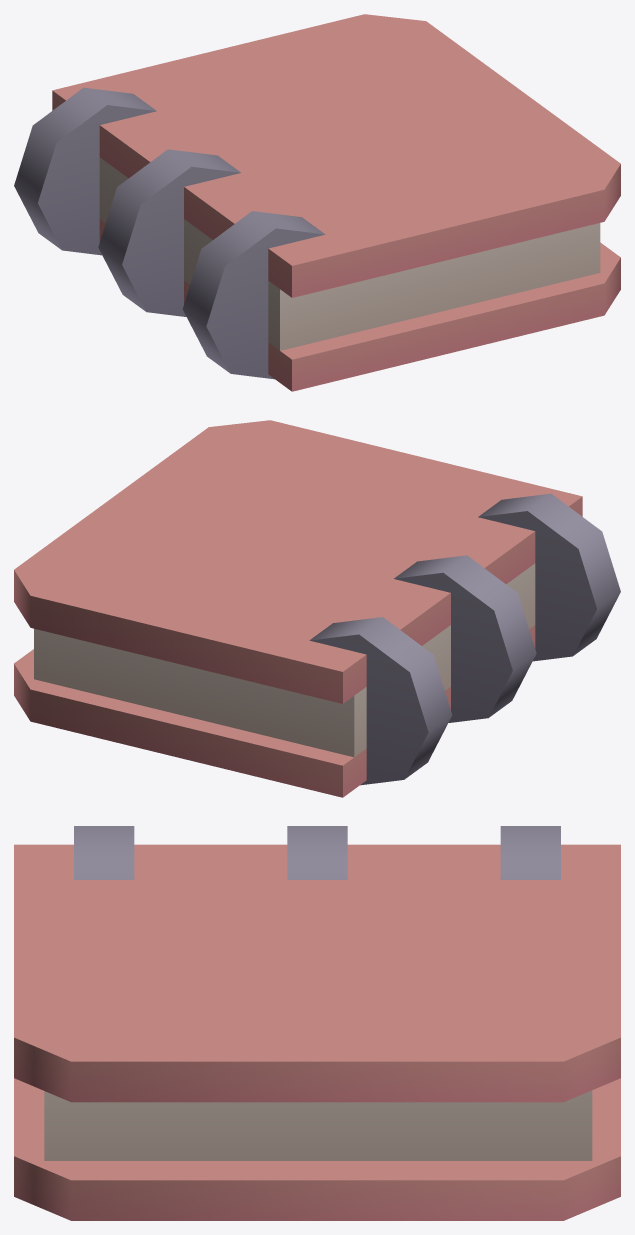
The model's file is notepad-laying.glb.
The picture shows the model from 3 angles, top to bottom: view 1: azimuth 30°, elevation 25°; view 2: azimuth 150°, elevation 25°; view 3: azimuth 270°, elevation 25°; orthographic projection. The views are drawn at different scales.
Parts seen in each view (by area): view 1: notepad-laying; view 2: notepad-laying; view 3: notepad-laying.
Boxes of the visible parts, x1=… form: notepad-laying: x1=14, y1=14, x2=620, y2=391; notepad-laying: x1=14, y1=420, x2=620, y2=797; notepad-laying: x1=14, y1=826, x2=620, y2=1220.
Bounding box in the file's own units: 0.2647 × 0.0942 × 0.266.
